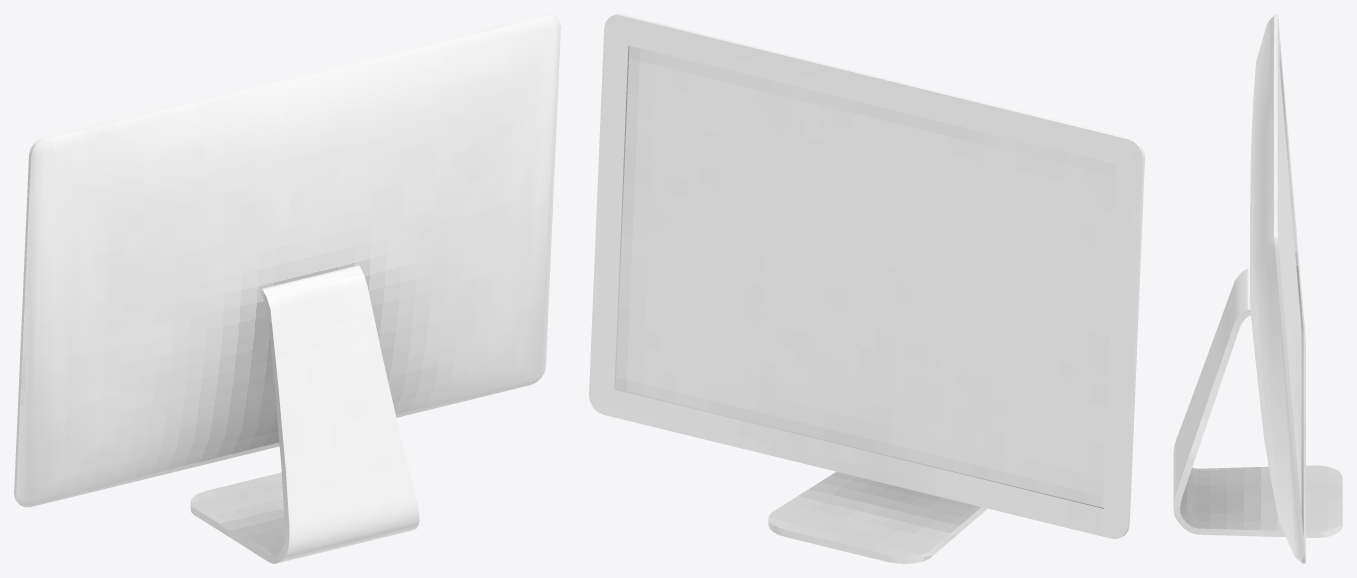
File: DisplayShapes.glb
3 renders of one model, left to right at view 1: azimuth 30°, elevation 25°; view 2: azimuth 150°, elevation 25°; view 3: azimuth 270°, elevation 25°, orthographic. The views are drawn at different scales.
Parts seen in each view (by area): view 1: DisplayShapes; view 2: DisplayShapes; view 3: DisplayShapes.
Boxes of the visible parts, x1,y1,x2,y2 form: DisplayShapes: [14, 14, 560, 563]; DisplayShapes: [589, 14, 1144, 563]; DisplayShapes: [1173, 14, 1342, 563].
Size of the model in its own units: 0.4996 by 0.3941 by 0.1577.
Materials: 1 (1 with a texture image).
